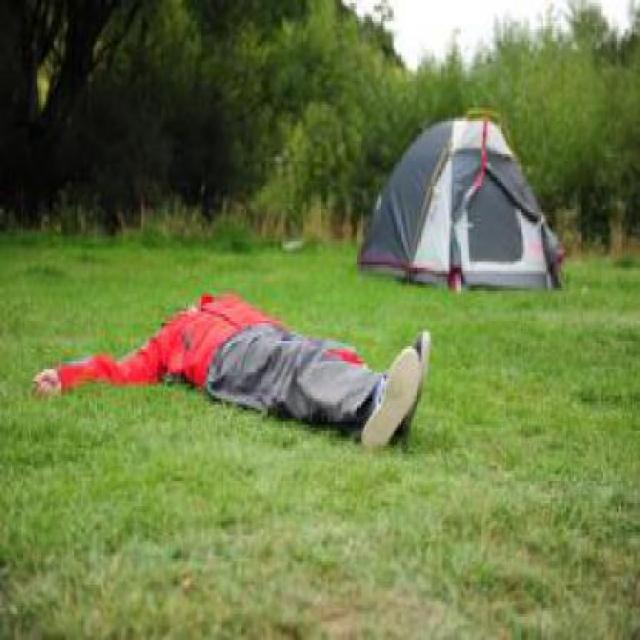fall: (18, 262, 428, 440)
